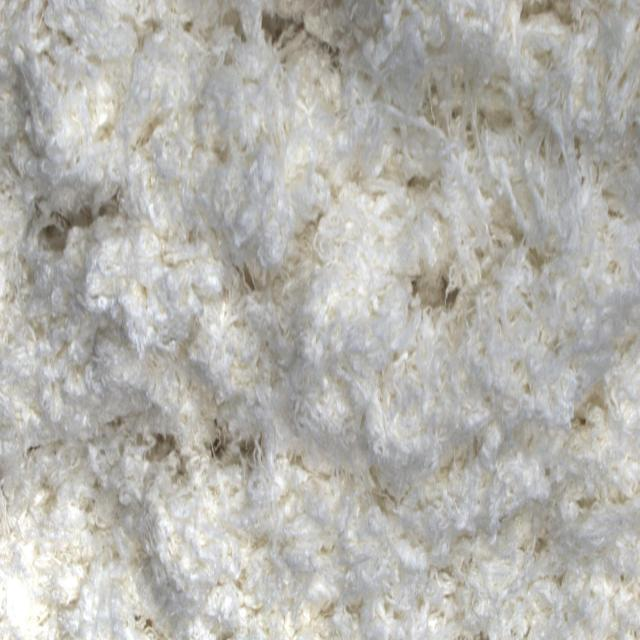dust: (42, 201, 120, 255), (268, 10, 309, 55)
